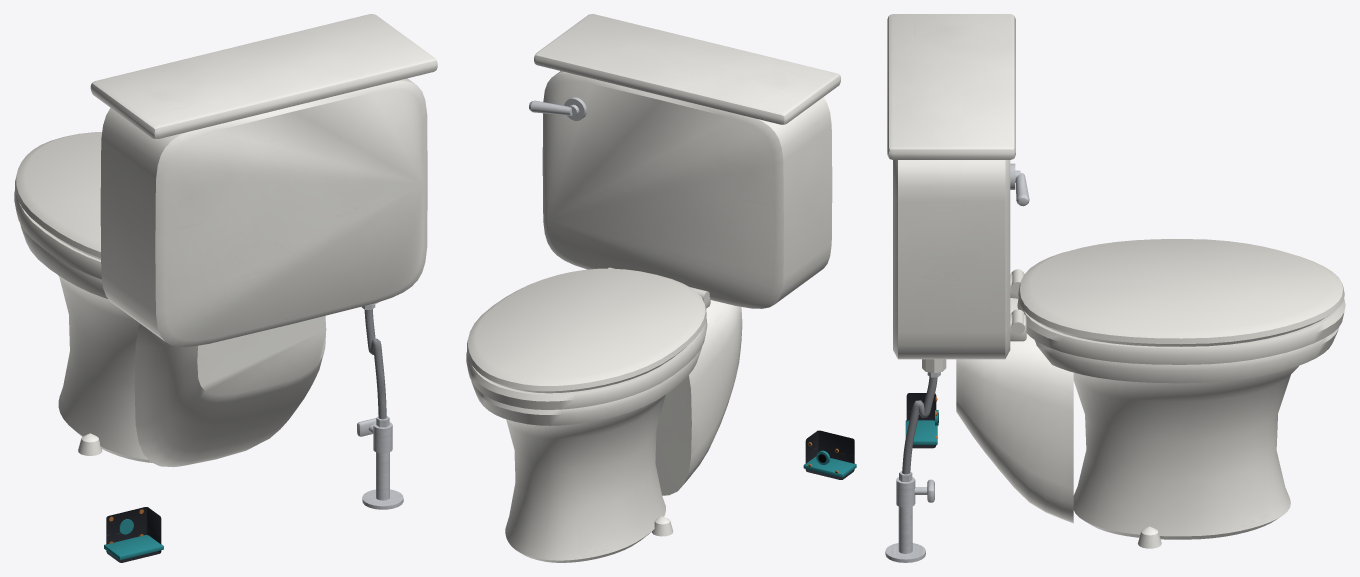
Rendered from toilet.glb.
3 views of the same model, side by side, from view 1: azimuth 30°, elevation 25°; view 2: azimuth 150°, elevation 25°; view 3: azimuth 270°, elevation 25° (orthographic). The views are drawn at different scales.
Visible parts, largest first — view 1: Body; view 2: Body; view 3: Body.
Part boxes in pixels (box(x1,y1,x2,y2)): Body: box(14, 14, 437, 562); Body: box(466, 14, 856, 562); Body: box(885, 14, 1345, 562).
Size of the model in its own units: 0.5546 by 0.746 by 0.7258.
8 materials, 5 textured.
